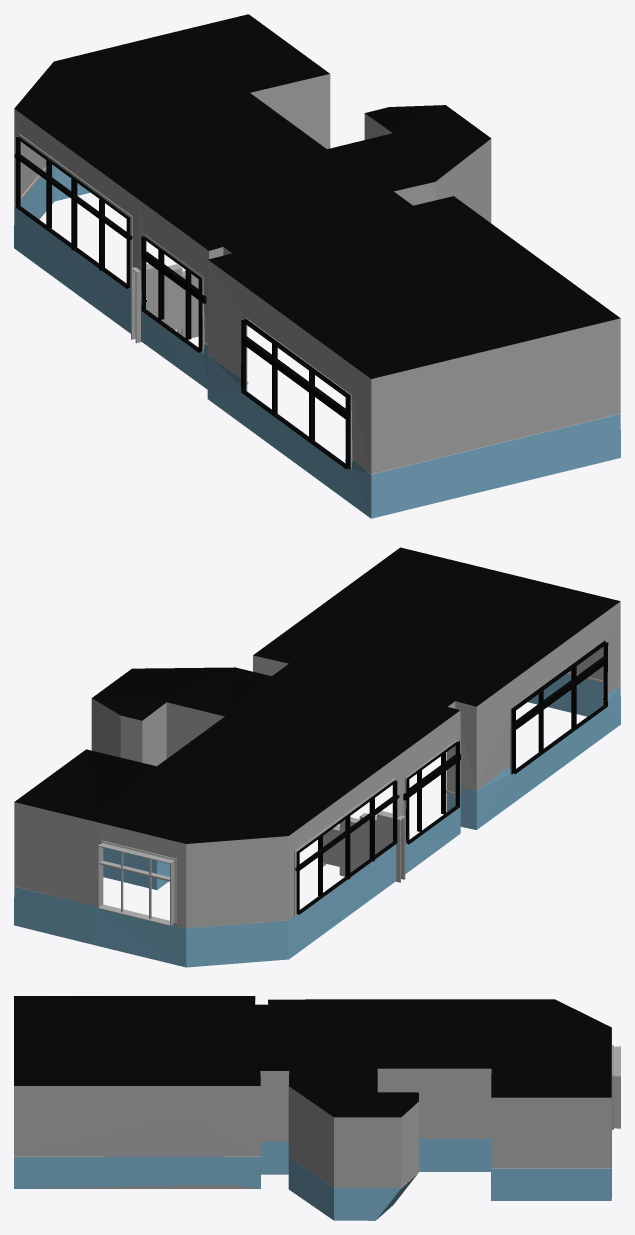
Rendered from building.fbx.
3 views of the same model, one above another, from view 1: azimuth 30°, elevation 25°; view 2: azimuth 150°, elevation 25°; view 3: azimuth 270°, elevation 25° (orthographic). The views are drawn at different scales.
Parts seen in each view (by area): view 1: Box263; view 2: Box263; view 3: Box263.
Part boxes in pixels (x1,y1,x2,y2): Box263: [14, 14, 620, 518]; Box263: [14, 547, 620, 967]; Box263: [14, 996, 620, 1220].
Size of the model in its own units: 811 by 338 by 1686.
